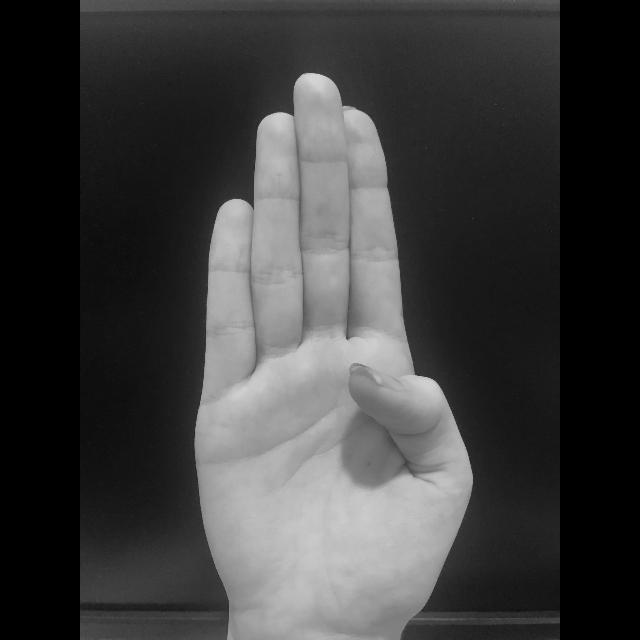B: (190, 69, 476, 639)
